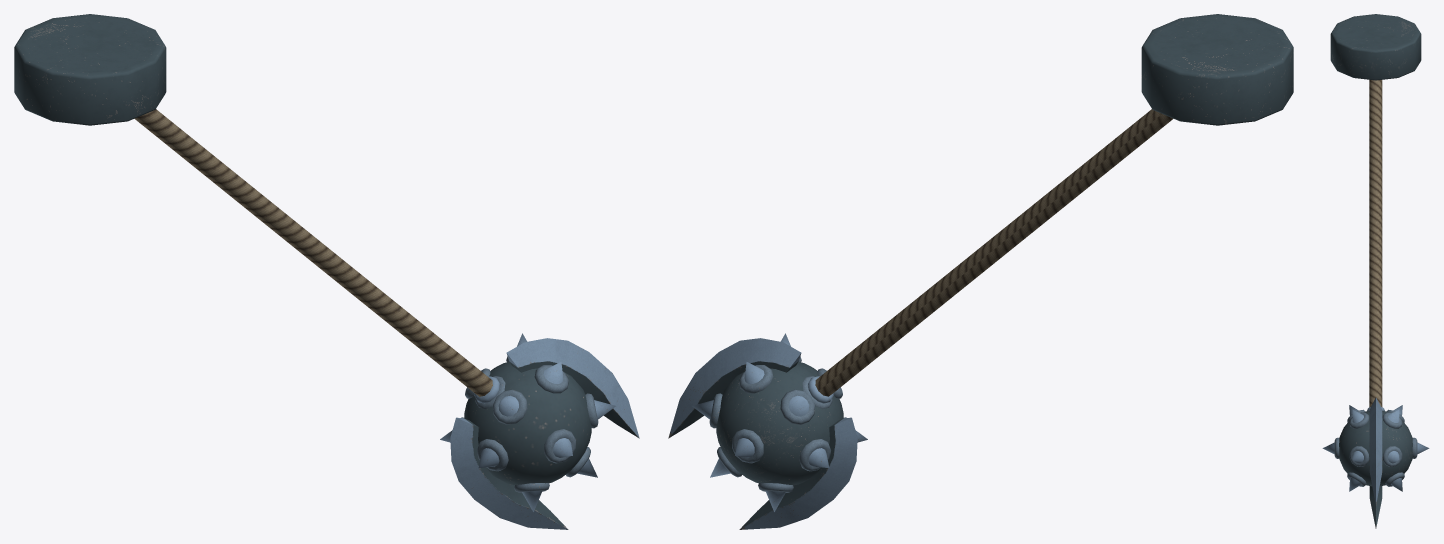
The model's file is Obstacle-2.fbx.
The picture shows the model from 3 angles, left to right: view 1: azimuth 30°, elevation 25°; view 2: azimuth 150°, elevation 25°; view 3: azimuth 270°, elevation 25°; orthographic projection. The views are drawn at different scales.
Parts seen in each view (by area): view 1: Obstacle-2, Obstacle-2-Mace, Obstacle-2-Rope, Obstacle-2-Axe; view 2: Obstacle-2, Obstacle-2-Mace, Obstacle-2-Rope, Obstacle-2-Axe; view 3: Obstacle-2, Obstacle-2-Mace, Obstacle-2-Rope, Obstacle-2-Axe.
Boxes of the visible parts, x1,y1,x2,y2 form: Obstacle-2: (14,14,166,125); Obstacle-2-Mace: (440,333,615,511); Obstacle-2-Rope: (134,109,492,396); Obstacle-2-Axe: (450,338,639,529); Obstacle-2: (1141,14,1293,125); Obstacle-2-Mace: (692,333,867,511); Obstacle-2-Rope: (815,109,1173,396); Obstacle-2-Axe: (668,338,857,529); Obstacle-2: (1330,14,1421,80); Obstacle-2-Mace: (1322,405,1429,491); Obstacle-2-Rope: (1369,80,1382,407); Obstacle-2-Axe: (1367,398,1384,528).
Bounding box in the file's own units: 3.33 × 3.11 × 0.8431.
